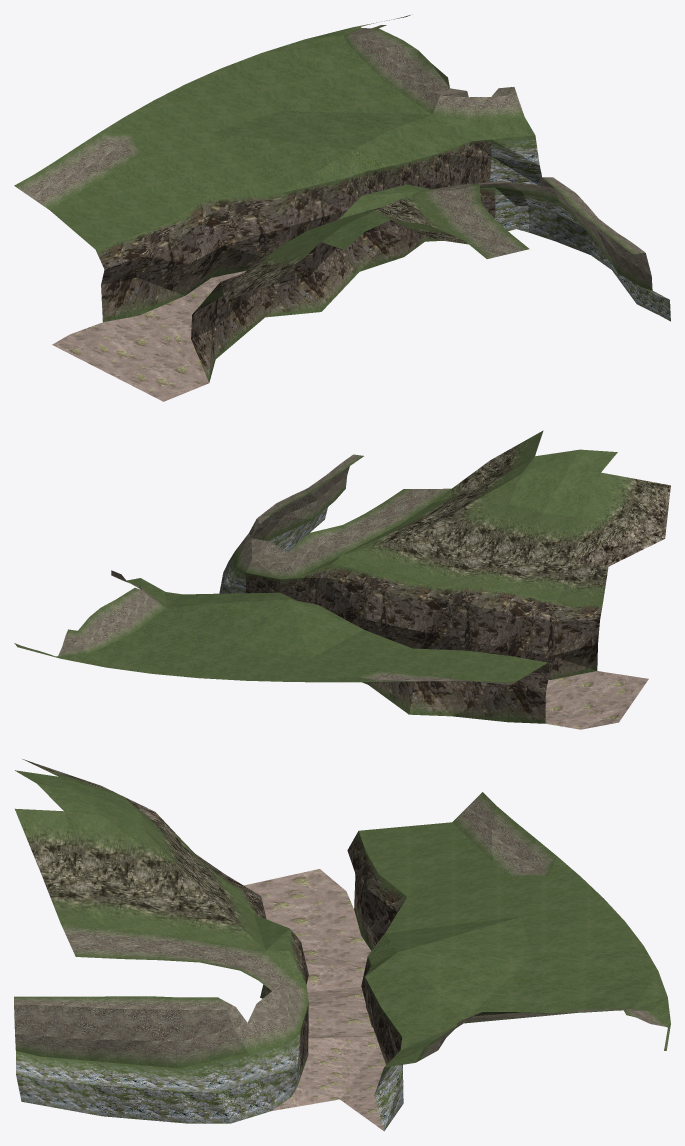
The model's file is cunteground09.obj.
3 views of the same model, one above another, from view 1: azimuth 30°, elevation 25°; view 2: azimuth 150°, elevation 25°; view 3: azimuth 270°, elevation 25° (orthographic). The views are drawn at different scales.
Parts seen in each view (by area): view 1: cuntEground09; view 2: cuntEground09; view 3: cuntEground09.
Part boxes in pixels (x1,y1,x2,y2): cuntEground09: [14, 15, 670, 401]; cuntEground09: [14, 430, 670, 729]; cuntEground09: [14, 759, 670, 1131].
Bounding box in the file's own units: 262 × 87.2 × 270.
Materials: 9 (9 with a texture image).
